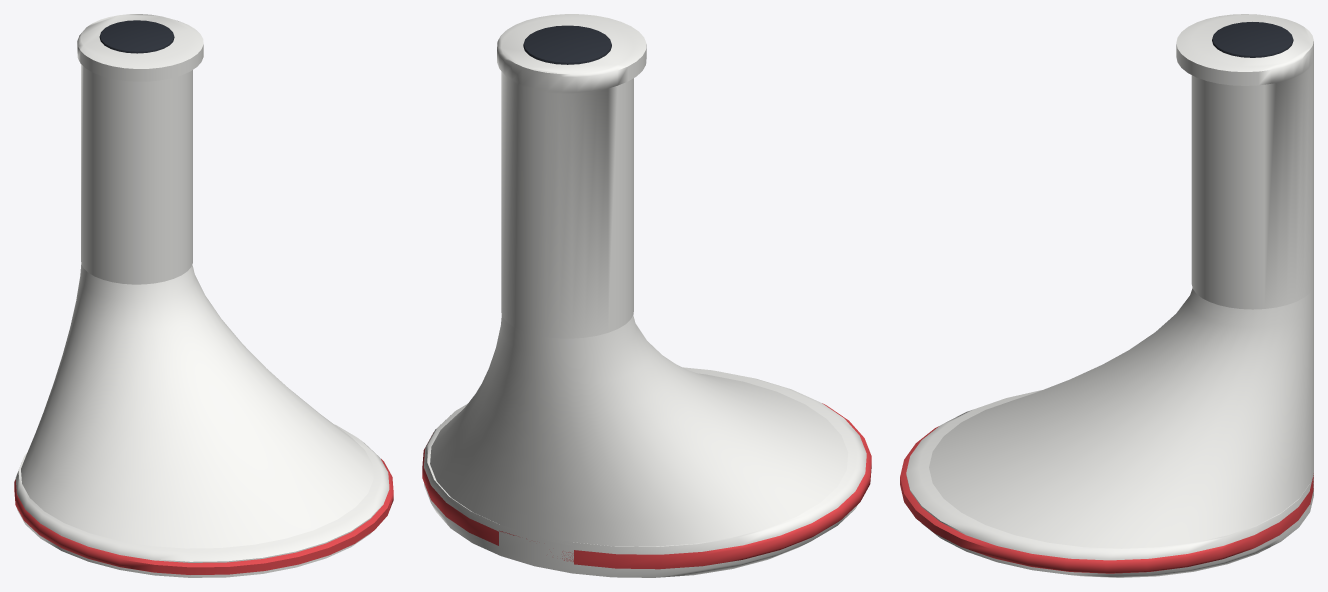
Rendered from coifa_conica_branca.glb.
The picture shows the model from 3 angles, left to right: view 1: azimuth 30°, elevation 25°; view 2: azimuth 150°, elevation 25°; view 3: azimuth 270°, elevation 25°; orthographic projection. The views are drawn at different scales.
Visible parts, largest first — view 1: coifa_conica_branca; view 2: coifa_conica_branca; view 3: coifa_conica_branca.
Part boxes in pixels (bbox=[...]): coifa_conica_branca: bbox=[14, 14, 393, 577]; coifa_conica_branca: bbox=[422, 14, 871, 577]; coifa_conica_branca: bbox=[900, 14, 1313, 577].
Size of the model in its own units: 0.812 by 0.994 by 0.812.
Materials: 2 (1 with a texture image).
